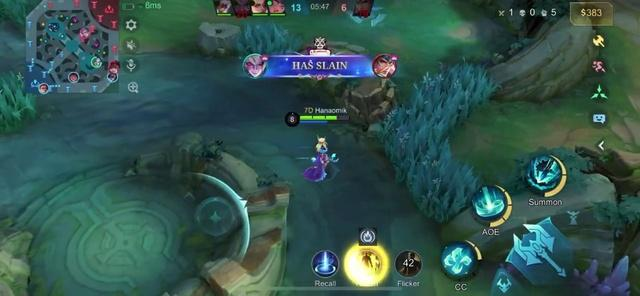Adc_Aliado: (40, 84, 49, 94)
Adc_Enemigo: (107, 64, 117, 75)
Arbusto: (378, 63, 498, 222), (234, 22, 303, 54), (0, 72, 35, 134)
HP_Heroe_Principal: (298, 113, 351, 121)
Jungla_Aliado: (107, 73, 119, 83)
Mana: (299, 121, 350, 125)
Mid_Aliado: (90, 57, 104, 69)
Mid_Enemigo: (79, 28, 91, 38)
Minimapa: (27, 0, 120, 94)
Roamer_Aliado: (68, 71, 81, 83)
Roamer_Enemigo: (109, 60, 122, 70)
Skill1: (441, 241, 478, 278)
Skill2: (472, 186, 504, 219)
Skill3: (524, 155, 565, 195)
Vexana: (303, 137, 335, 181)
